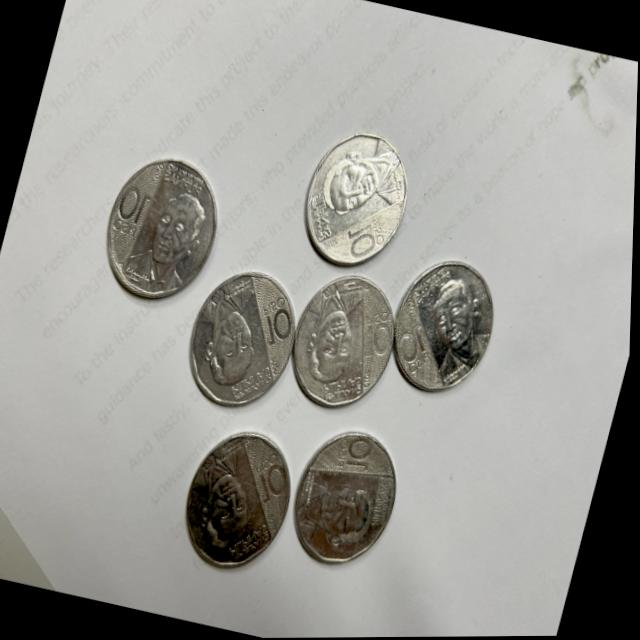10_New_Front: (244, 292, 308, 359), (238, 454, 299, 519), (102, 179, 155, 248), (389, 320, 444, 377), (345, 214, 393, 266), (354, 318, 399, 369), (334, 430, 384, 475)
